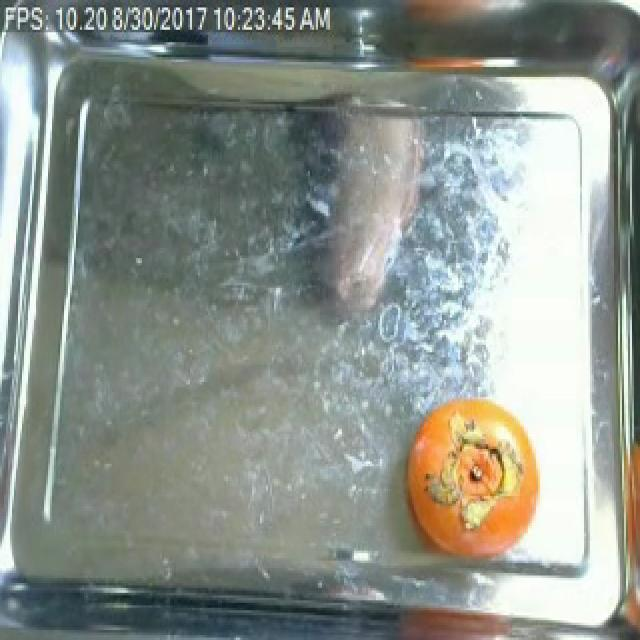Fruit: (400, 390, 522, 558), (386, 595, 530, 640), (392, 0, 498, 30)
